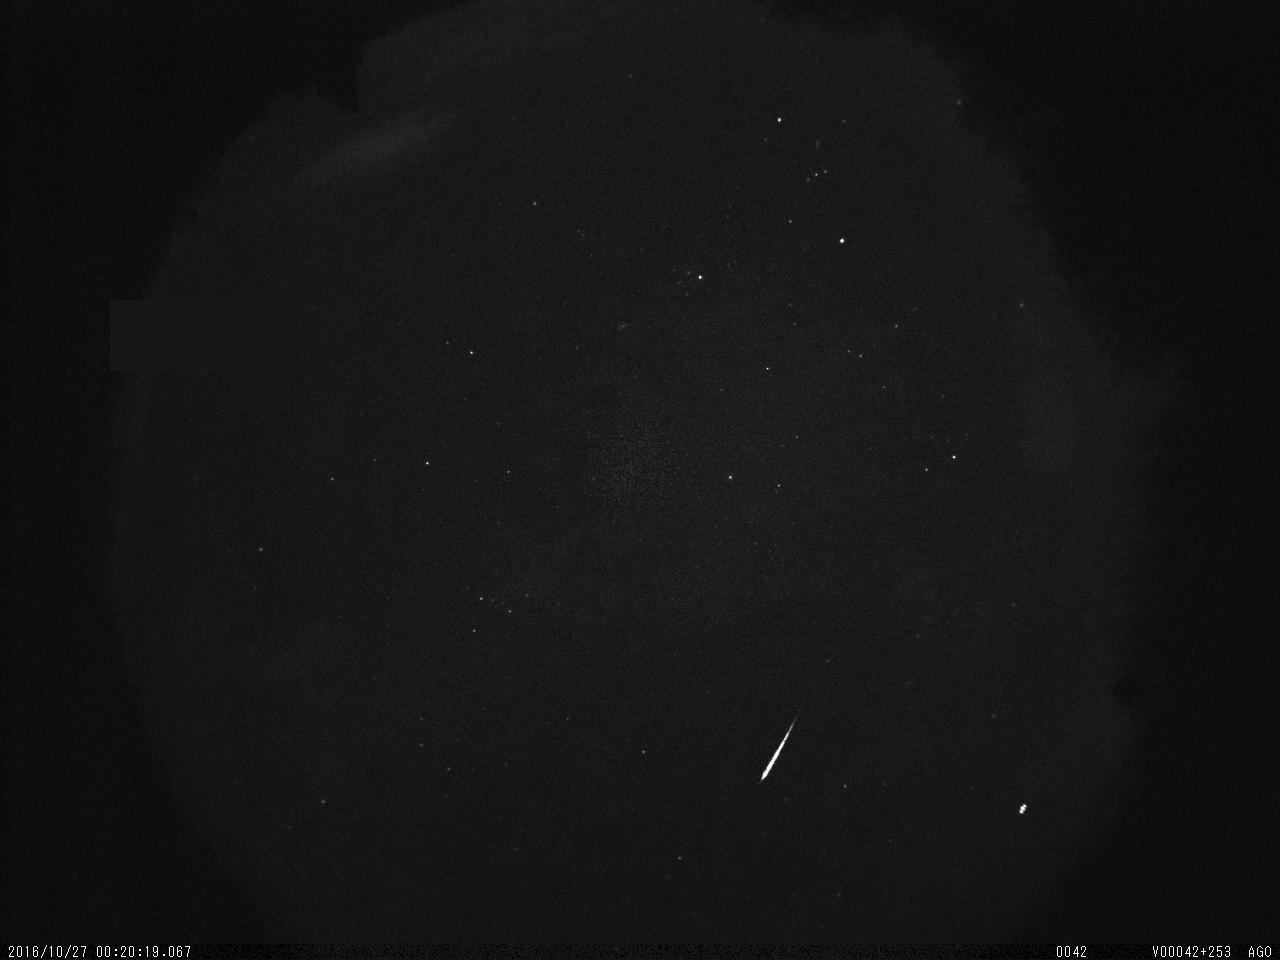meteor: (754, 704, 807, 790)
